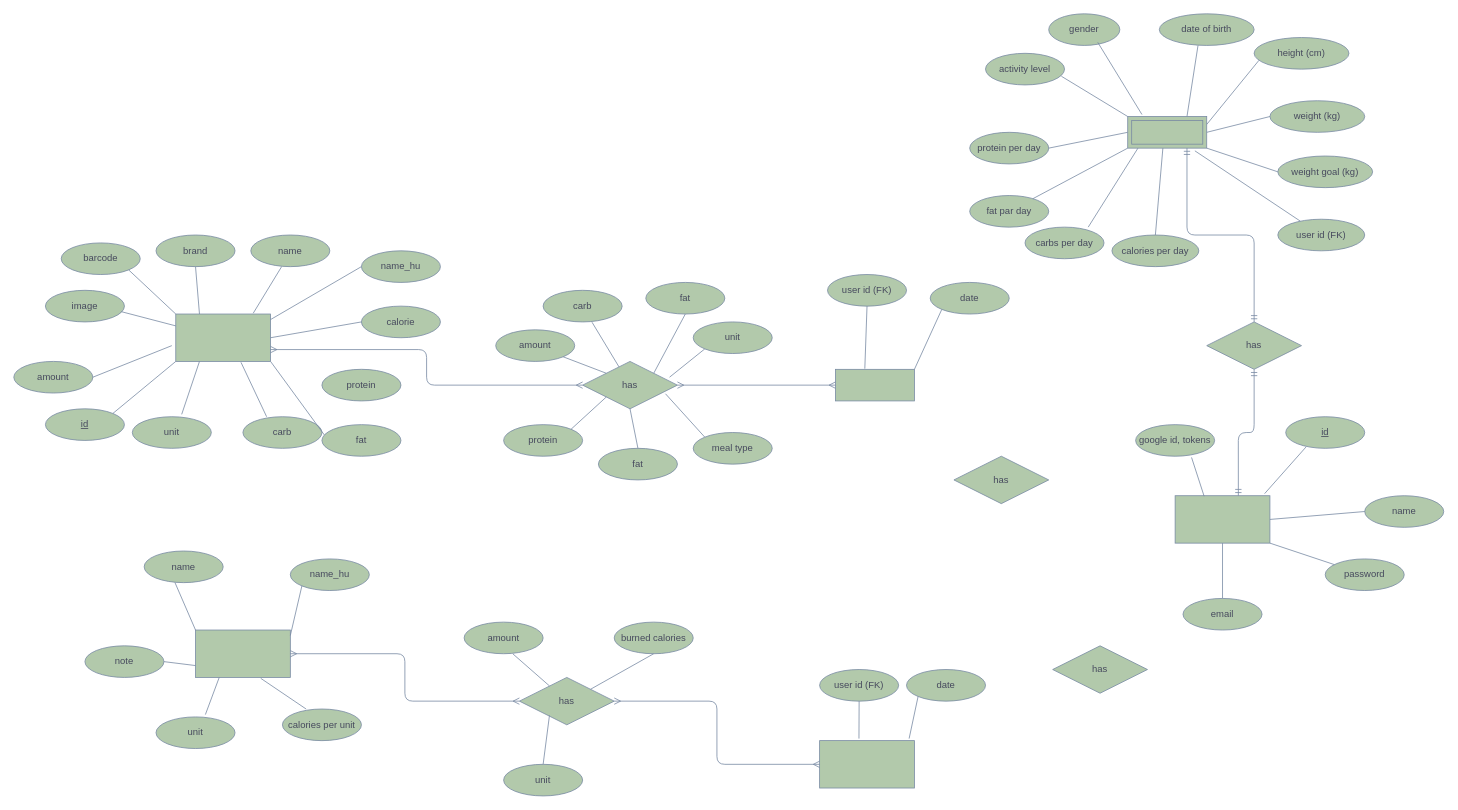
The diagram is 1458 pixels wide and 810 high, and some of its shapes have lost their labels. Each missing label, with the centre of its shape:
exercises: point (242, 653)
food diary: point (874, 385)
foods: point (223, 337)
user profiles: point (1167, 132)
users: point (1222, 519)
workout diary: point (866, 764)
